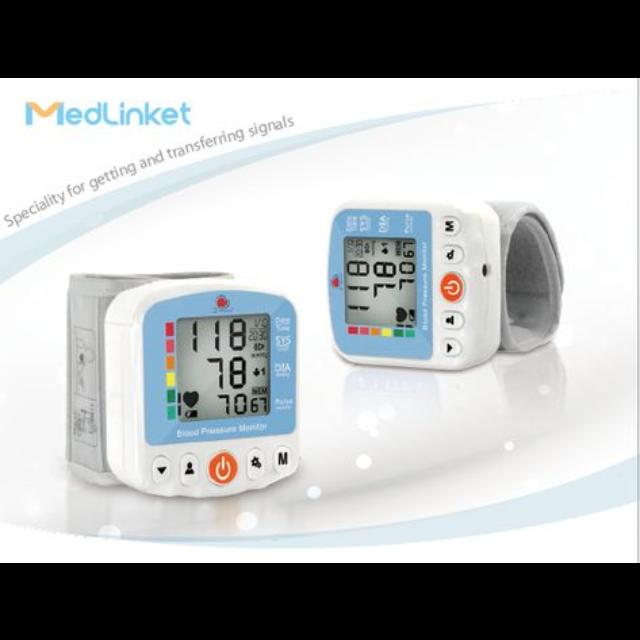Blood-Pressure-Monitor: (104, 278, 299, 496), (329, 202, 500, 369)
